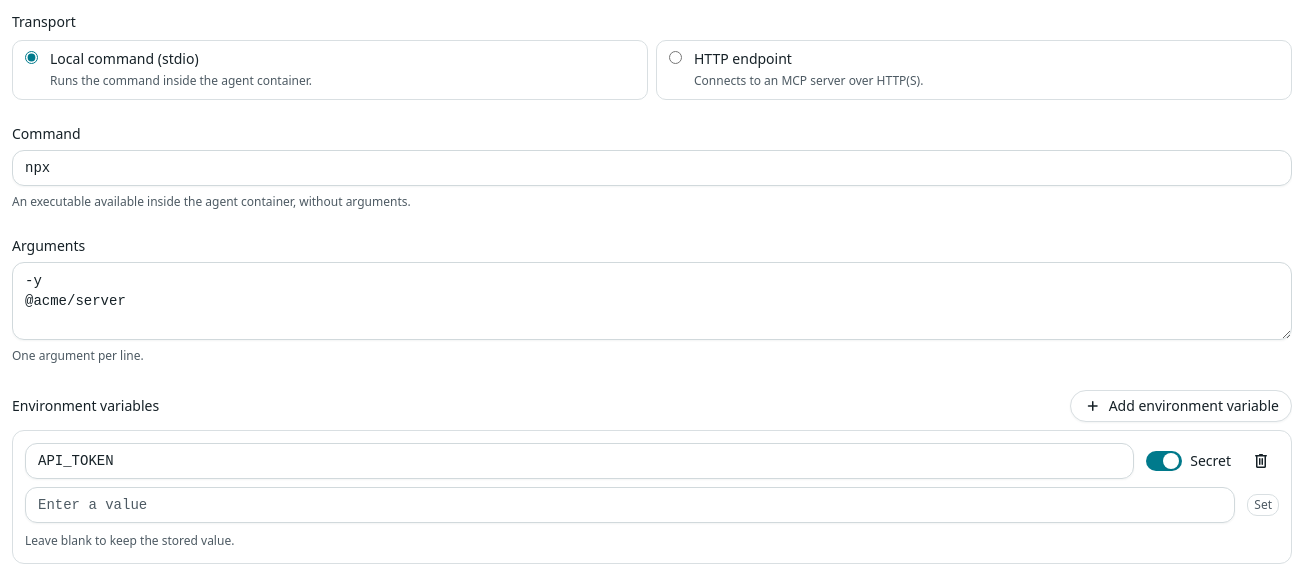
Scenario: mcp transport form — fields and secret safety › masks the value while the secret switch is on and reveals it when off
The width and height of the screenshot is (1304, 581).
Note: Typing into the masked input replaces the stored secret.
Type "rotated" into the password field labelled "value" at (630, 505), box x1=25 y1=487 x2=1235 y2=523
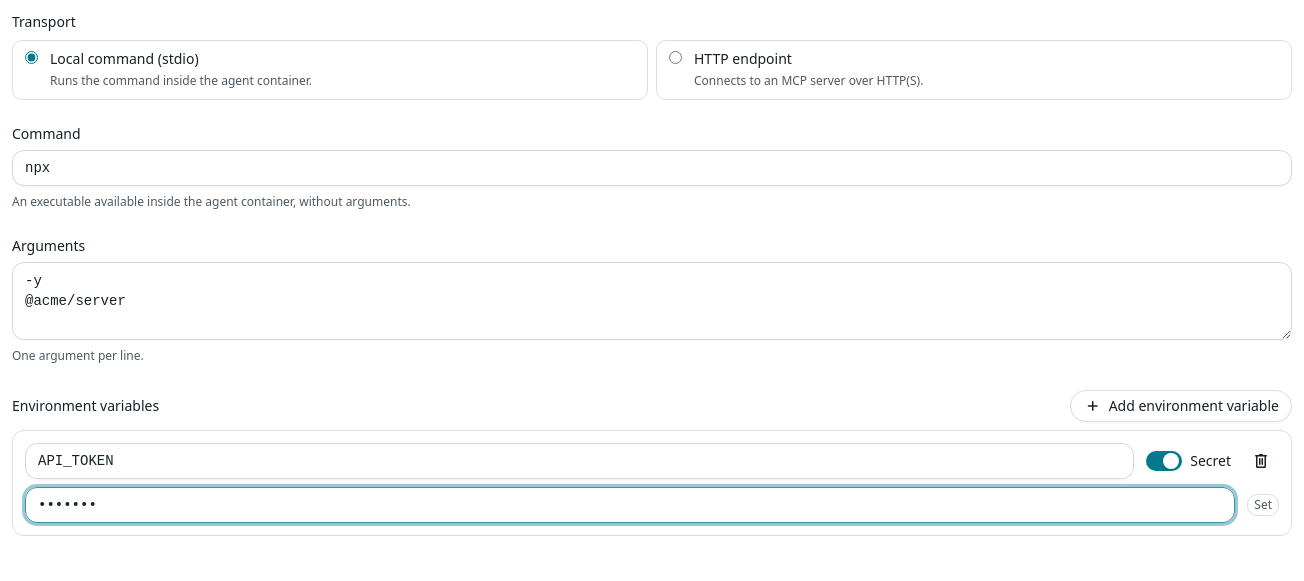
Click the switch named "Secret" at (1164, 461), box x1=1146 y1=451 x2=1182 y2=471
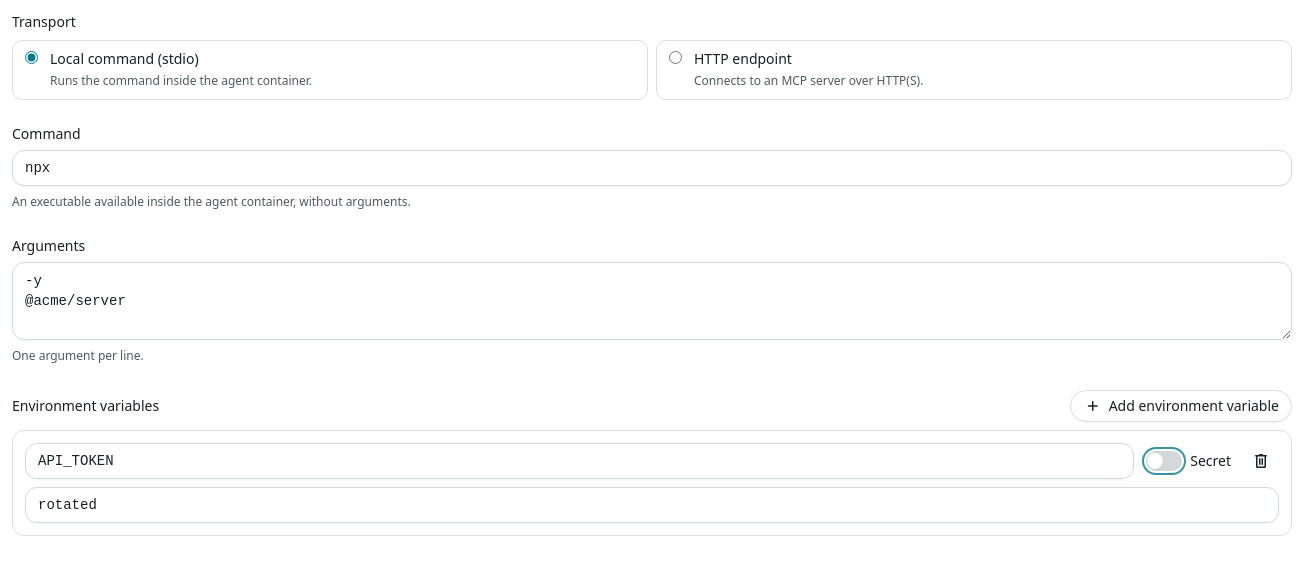
Check: the field named "value" shows its text, box x1=25 y1=487 x2=1279 y2=523
